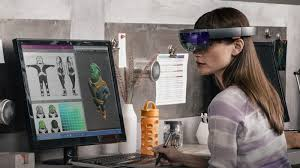hololens: (178, 26, 257, 54)
